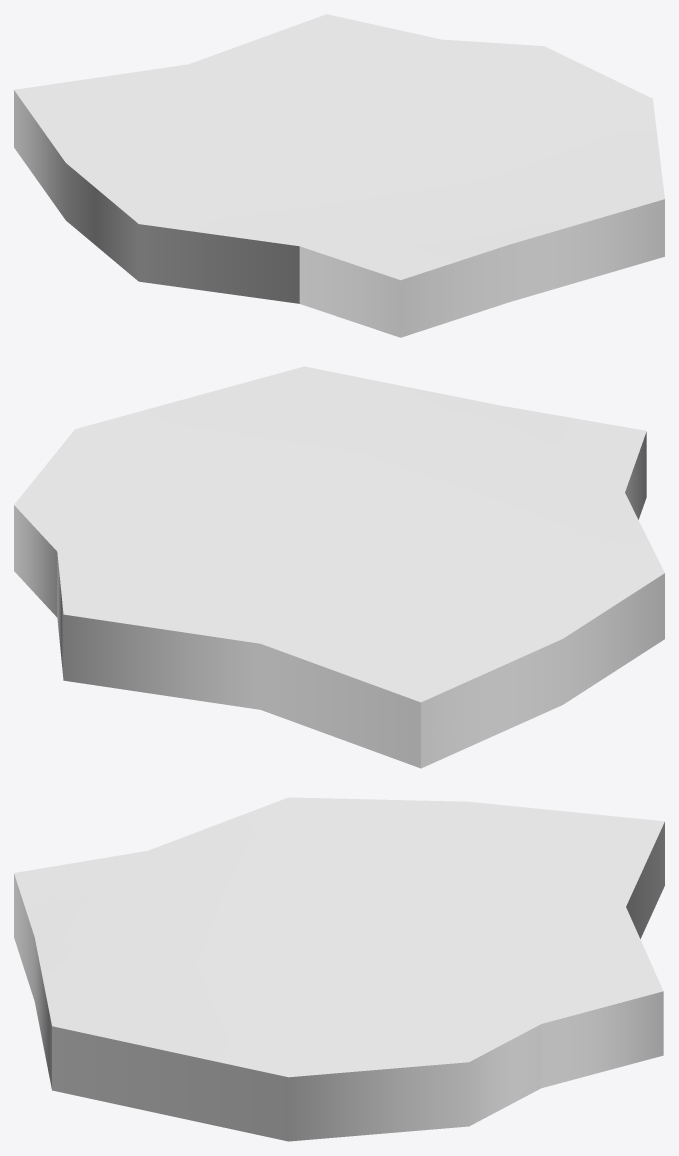
The model's file is Rock 26.FBX.
The picture shows the model from 3 angles, top to bottom: view 1: azimuth 30°, elevation 25°; view 2: azimuth 150°, elevation 25°; view 3: azimuth 270°, elevation 25°; orthographic projection. The views are drawn at different scales.
Visible parts, largest first — view 1: Box001; view 2: Box001; view 3: Box001.
Boxes of the visible parts, x1,y1,x2,y2 form: Box001: (14,14,664,337); Box001: (14,366,664,768); Box001: (14,797,664,1141).
Size of the model in its own units: 45.41 by 4.86 by 44.64.
